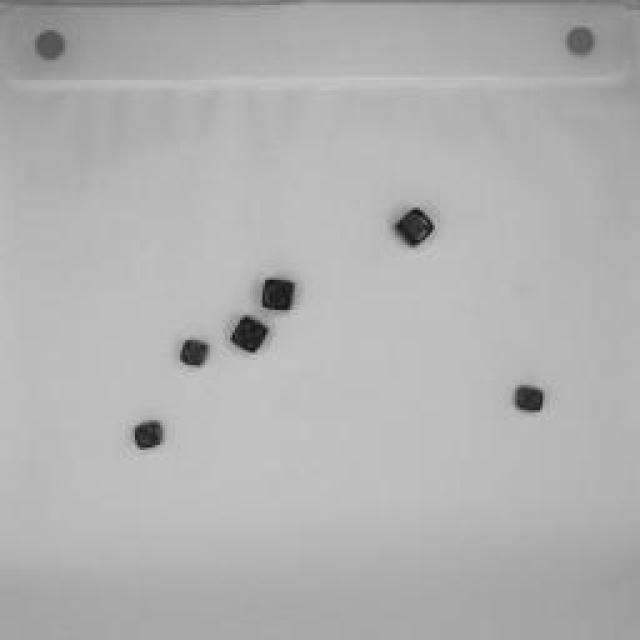dice_2: (256, 271, 304, 319), (509, 379, 549, 416)
dice_3: (389, 199, 441, 251), (128, 418, 168, 454)
dice_5: (222, 311, 278, 361), (178, 334, 210, 371)
